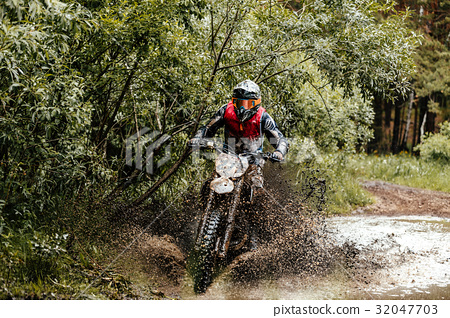helmet: (227, 80, 268, 125)
